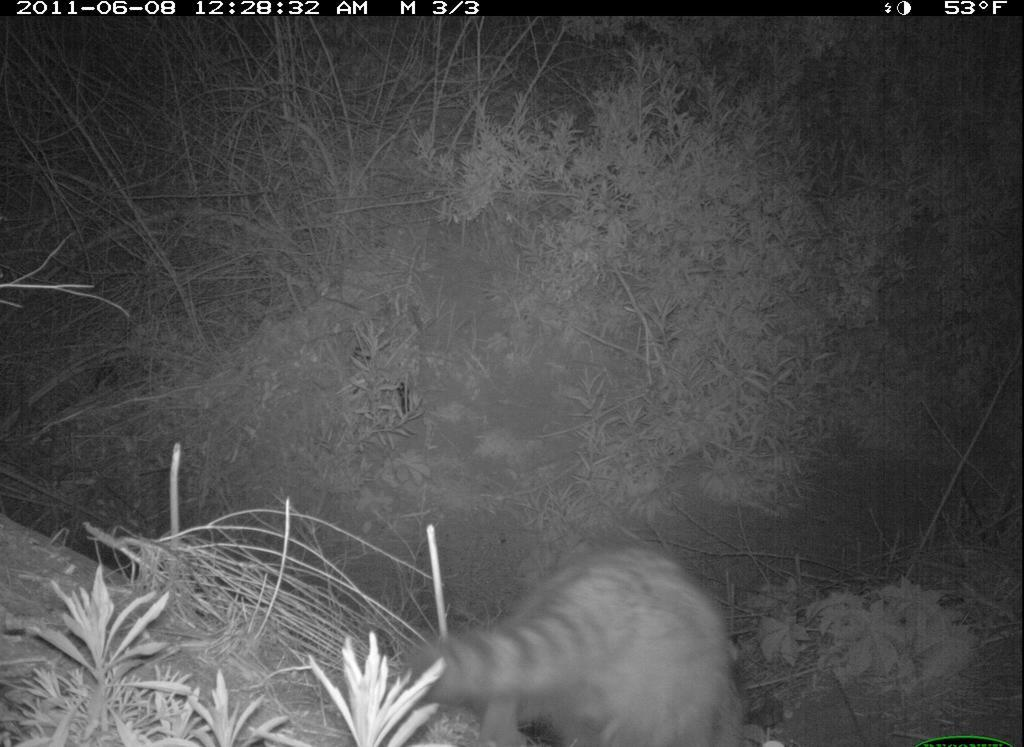raccoon: (390, 528, 772, 745)
